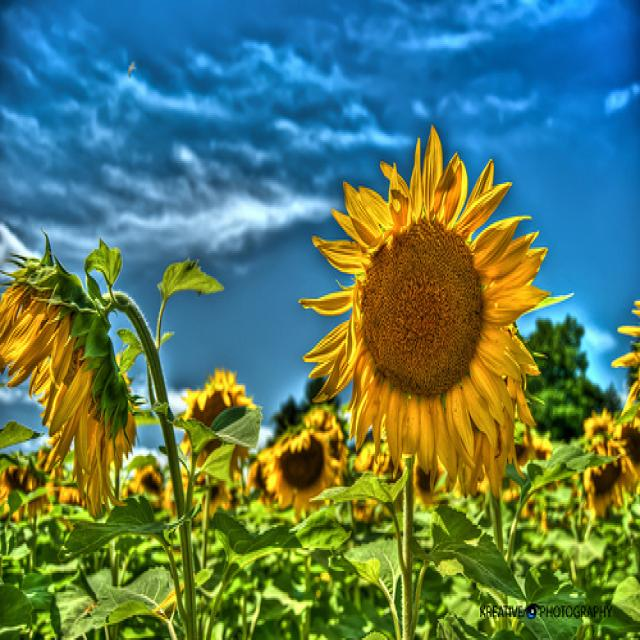sunflower: (293, 117, 551, 498), (0, 218, 137, 514), (260, 405, 342, 526), (180, 363, 263, 442), (133, 449, 167, 503)
